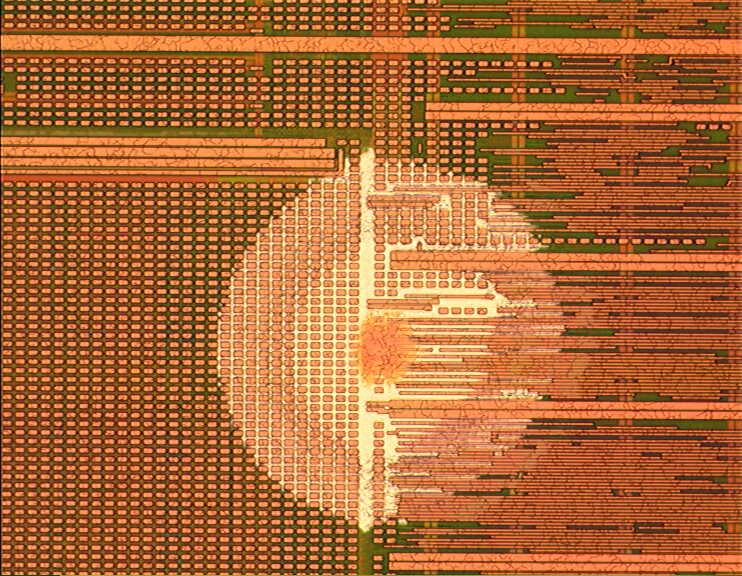BLOCK ETCH: (204, 145, 576, 537)
